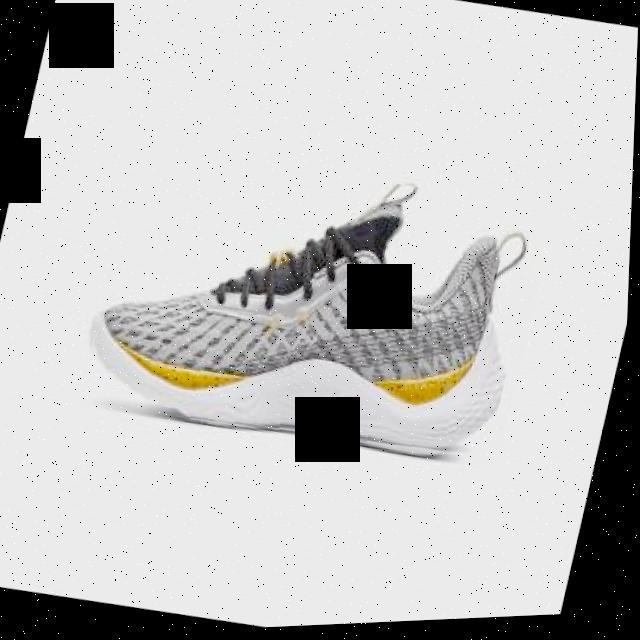shoe: (75, 131, 549, 485)
